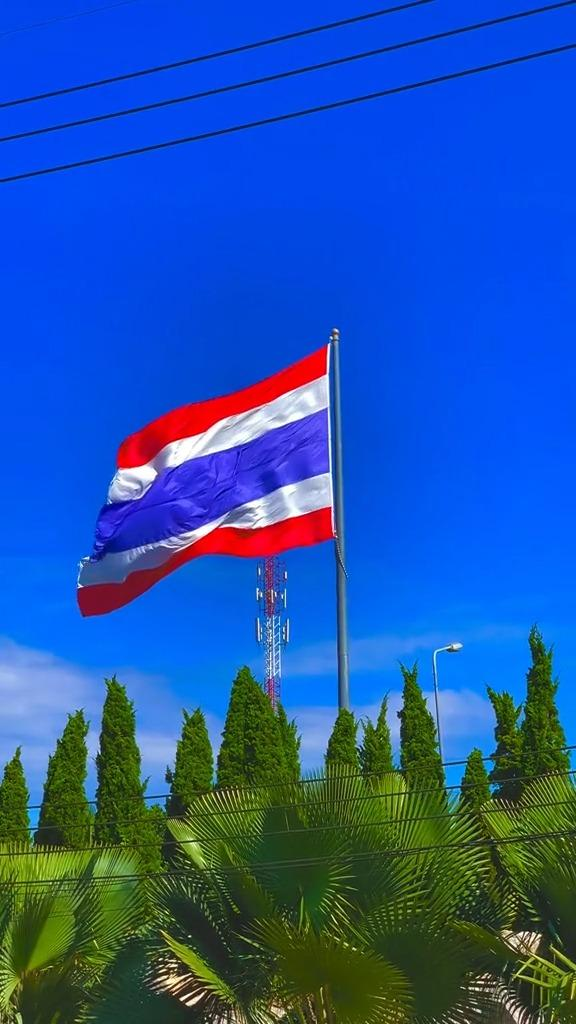Thailand: (77, 345, 333, 615)
